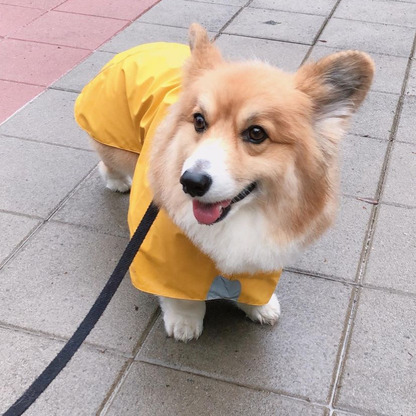Corgi: (88, 31, 374, 345)
